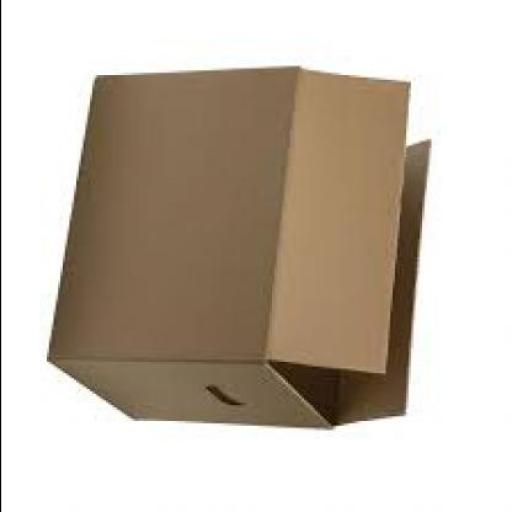cardboard: (47, 68, 428, 433)
